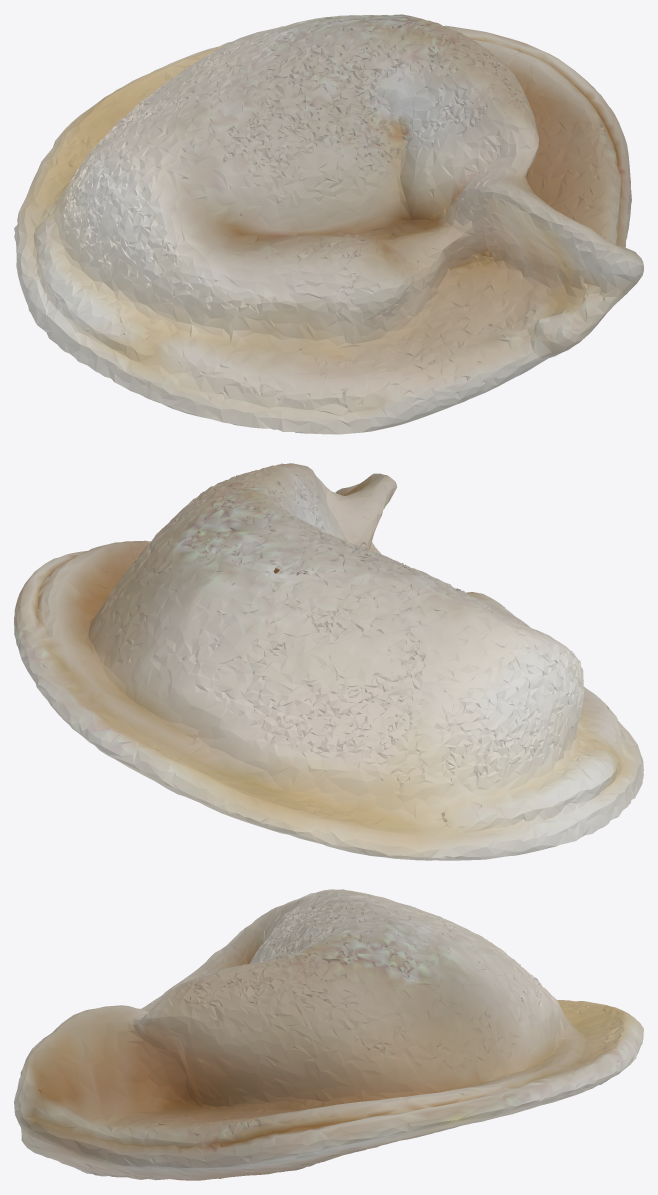
The model's file is pelmen_new_opt.glb.
3 renders of one model, top to bottom at view 1: azimuth 30°, elevation 25°; view 2: azimuth 150°, elevation 25°; view 3: azimuth 270°, elevation 25°, orthographic. The views are drawn at different scales.
Bounding box in the file's own units: 0.721 × 0.3303 × 0.7556.
